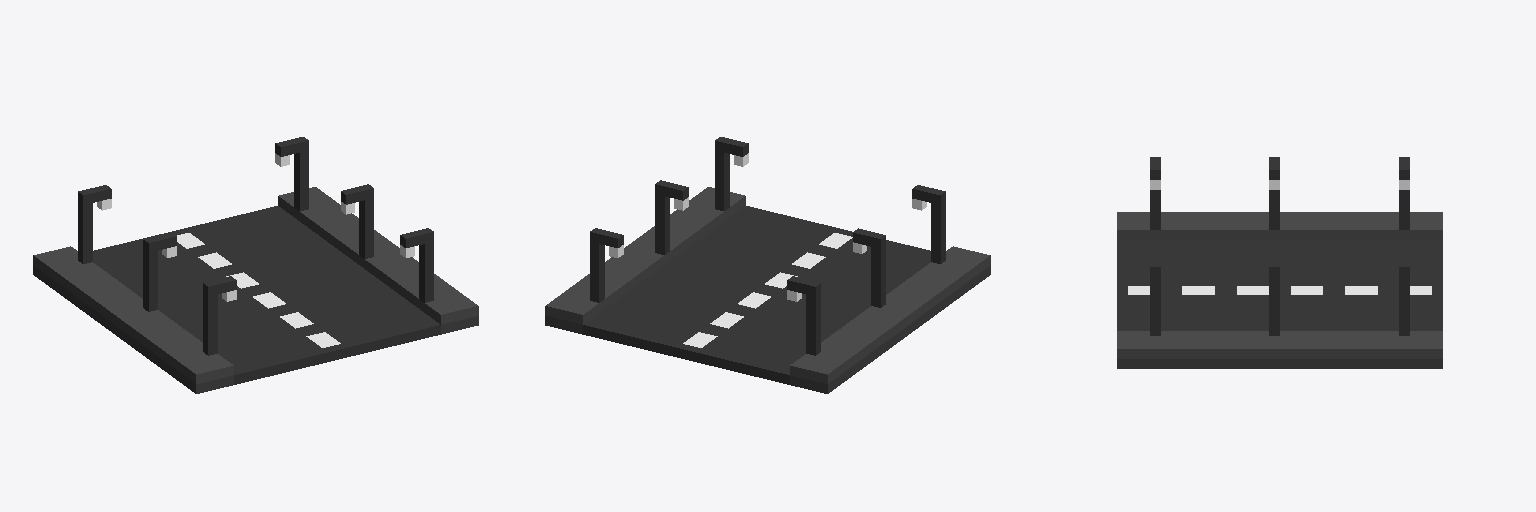
3 views of the same model, side by side, from view 1: azimuth 30°, elevation 25°; view 2: azimuth 150°, elevation 25°; view 3: azimuth 270°, elevation 25° (orthographic).
Size of the model in its own units: 30 by 9 by 30.
Materials: 1 (1 with a texture image).